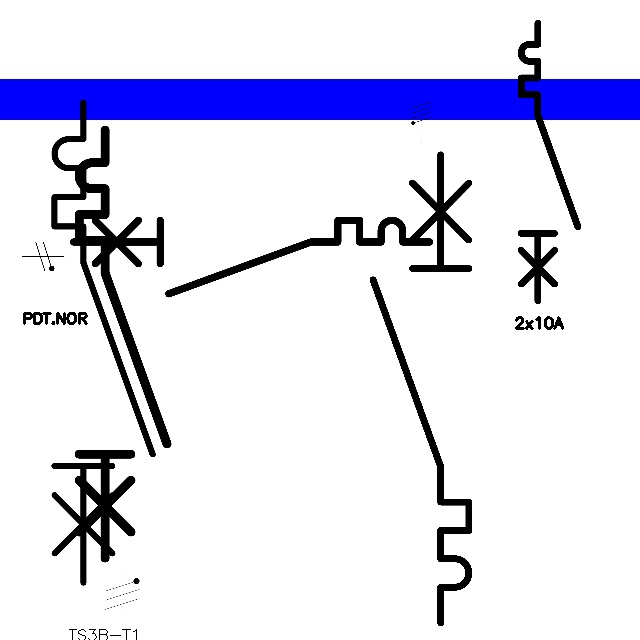interruptor_termomagnetico: (42, 90, 165, 595), (361, 142, 481, 634), (68, 119, 178, 569), (64, 211, 439, 302), (514, 16, 585, 308)
